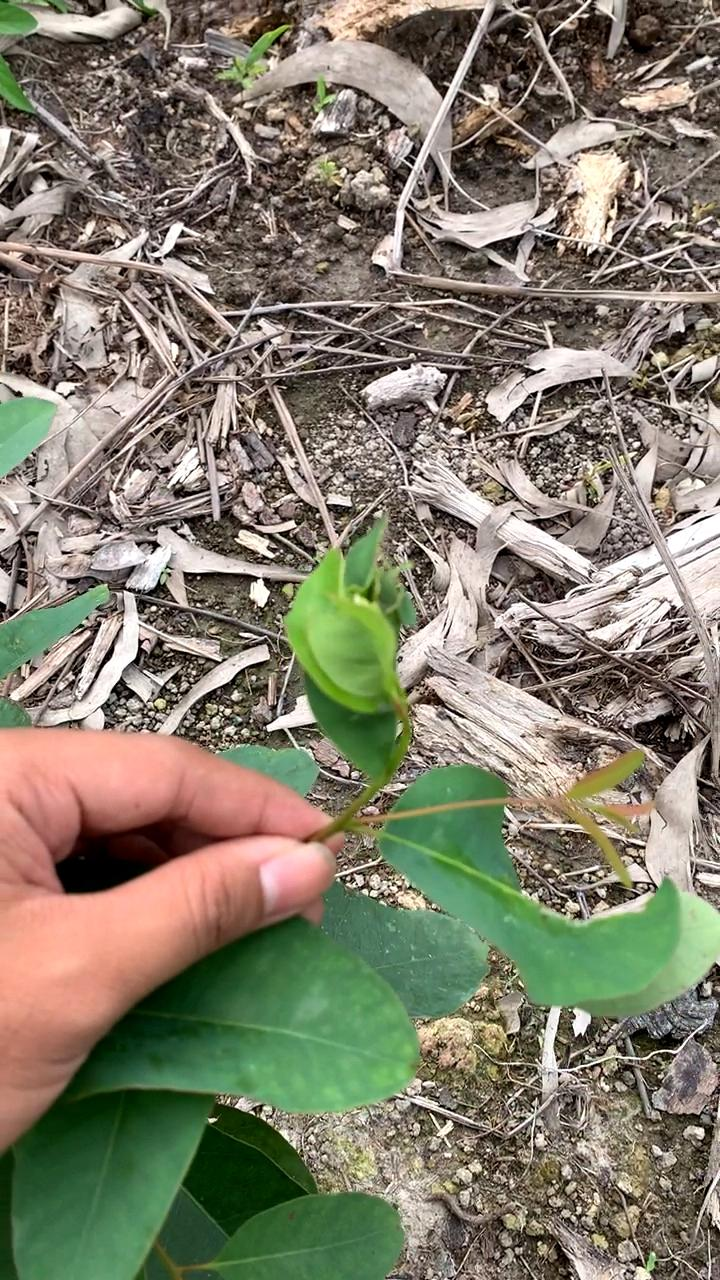Leaf Roller - Leaf: (286, 536, 441, 747)
